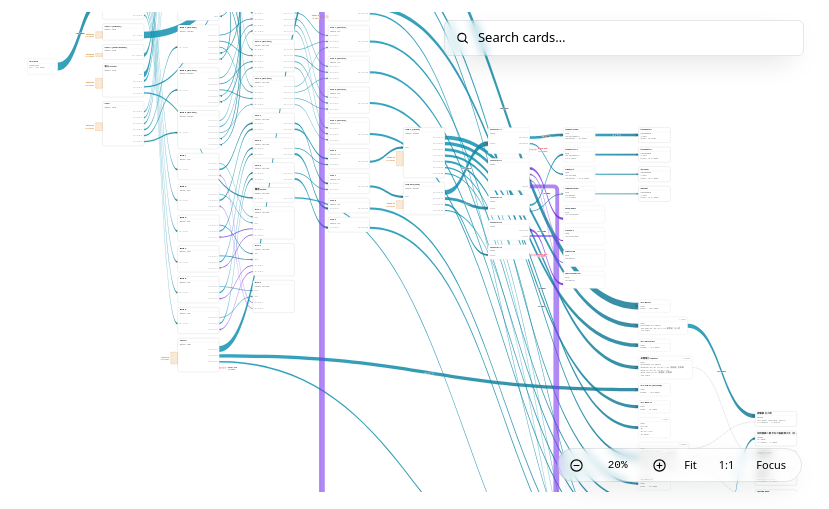
it: TraceView card search › frames a located result in the chart and ends the search
In the field with test id "sankey-search-input": (635, 38) [478,28,793,48], type "kafka-2"
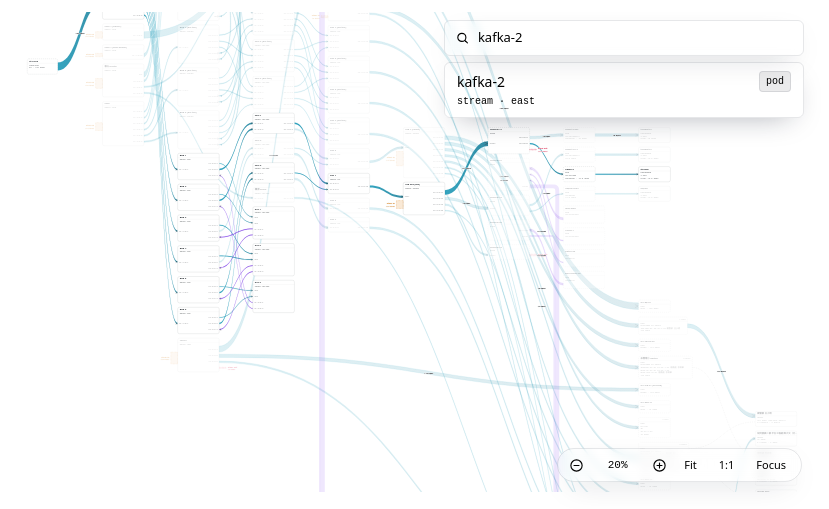
Click the option with test id "search-result-k8s/kafka-2": (481, 81) [445,63,803,117]
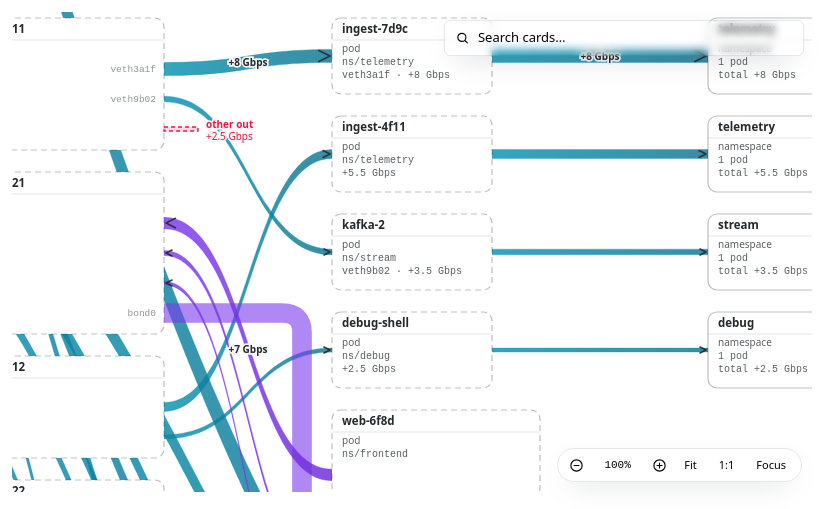
Check: the element with test id "sankey-zoom-controls" shows "100%", box [557,448,802,482]
Check: the field with test id "sankey-search-input" is empty, box [478,28,793,48]
